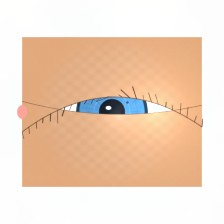pinguecula_lesion: (27, 89, 67, 121)
